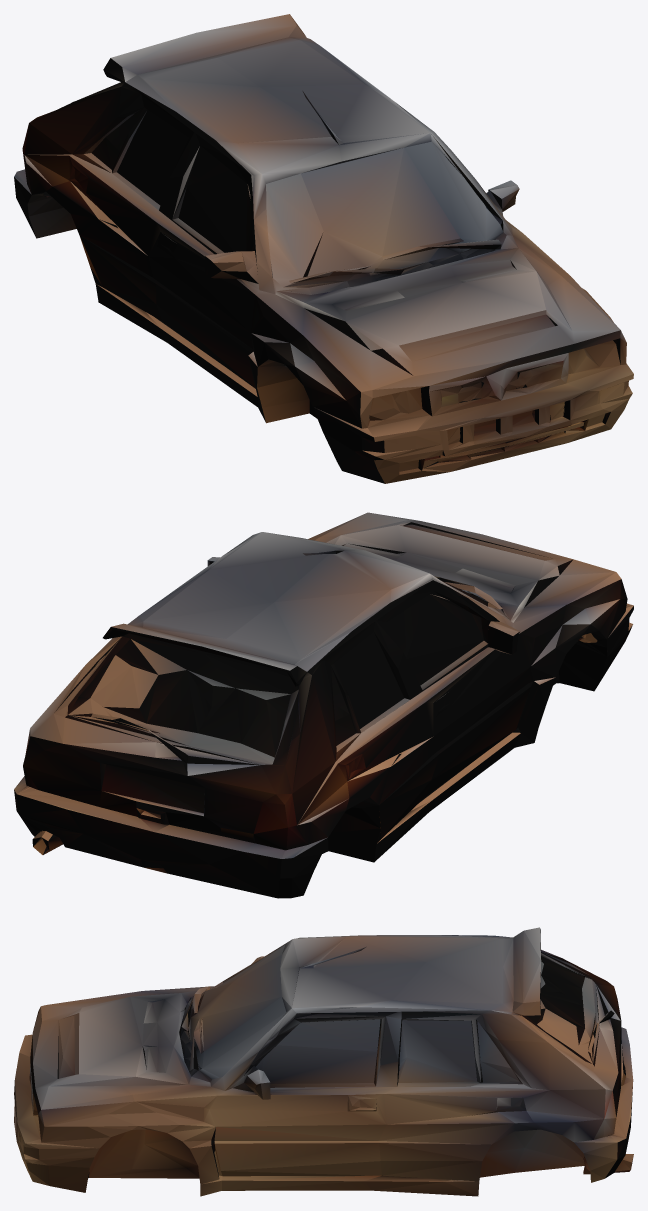
Rendered from lancia_delta_integrale.glb.
3 renders of one model, top to bottom at view 1: azimuth 30°, elevation 25°; view 2: azimuth 150°, elevation 25°; view 3: azimuth 270°, elevation 25°, orthographic. The views are drawn at different scales.
Parts seen in each view (by area): view 1: Wreck_lancia_delta_integrale; view 2: Wreck_lancia_delta_integrale; view 3: Wreck_lancia_delta_integrale.
Part boxes in pixels (<box>): Wreck_lancia_delta_integrale: <box>14,14,633,483</box>; Wreck_lancia_delta_integrale: <box>14,512,633,898</box>; Wreck_lancia_delta_integrale: <box>14,927,633,1196</box>.
Bounding box in the file's own units: 1.89 × 1.35 × 3.9.
